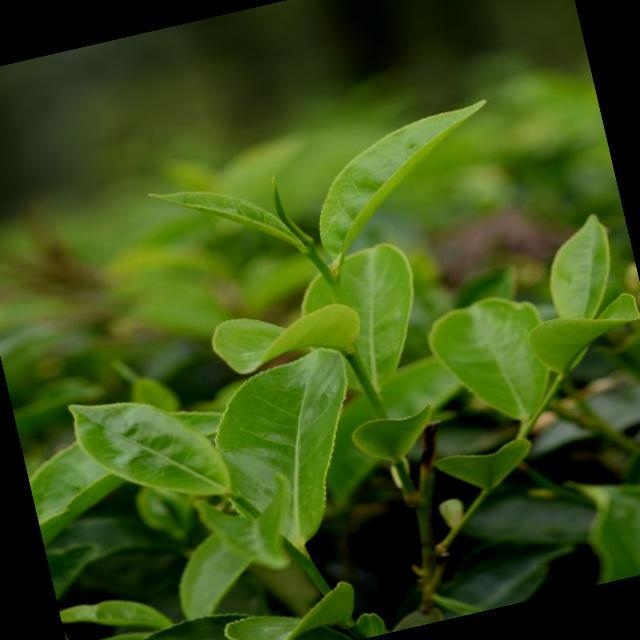Stem: (306, 248, 321, 264)
